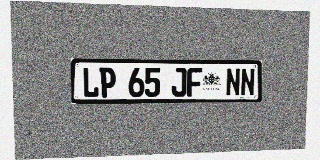5: (145, 68, 160, 97)
6: (128, 68, 144, 97)
F: (187, 68, 202, 97)
J: (171, 68, 187, 97)
L: (82, 67, 99, 98)
N: (240, 68, 255, 96), (226, 68, 240, 96)
P: (99, 67, 116, 97)
